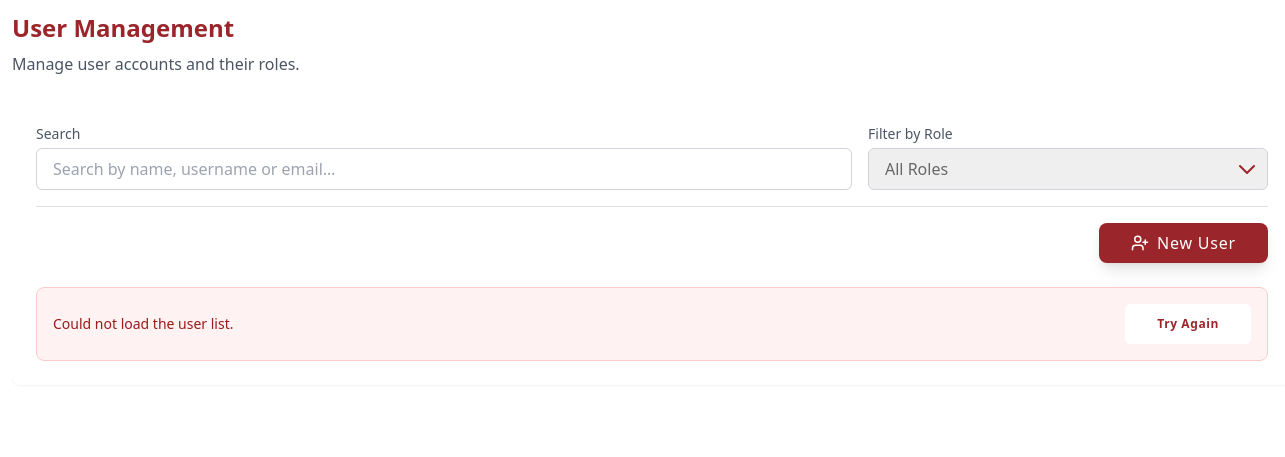
DashboardUserManagement › shows an inline error with a retry when the list cannot be loaded
This screenshot has width=1285, height=457.
expect the message shows "Could not load the user list.": met, box [53, 314, 234, 333]
Click the button "Try Again". click: (1188, 324)
box: [1125, 304, 1251, 344]
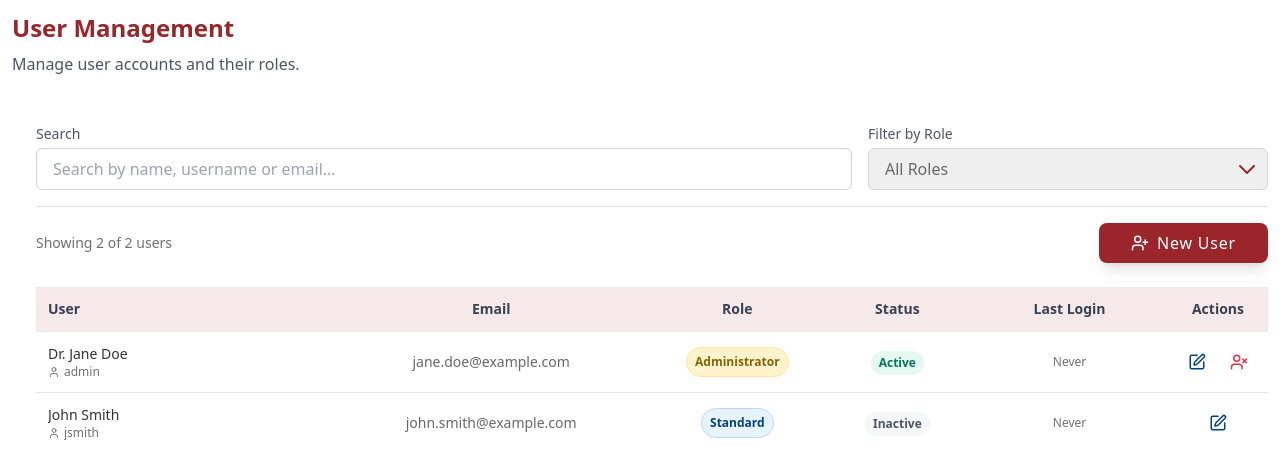
expect the text "Dr. Jane Doe" is shown: met, box [48, 344, 128, 363]
